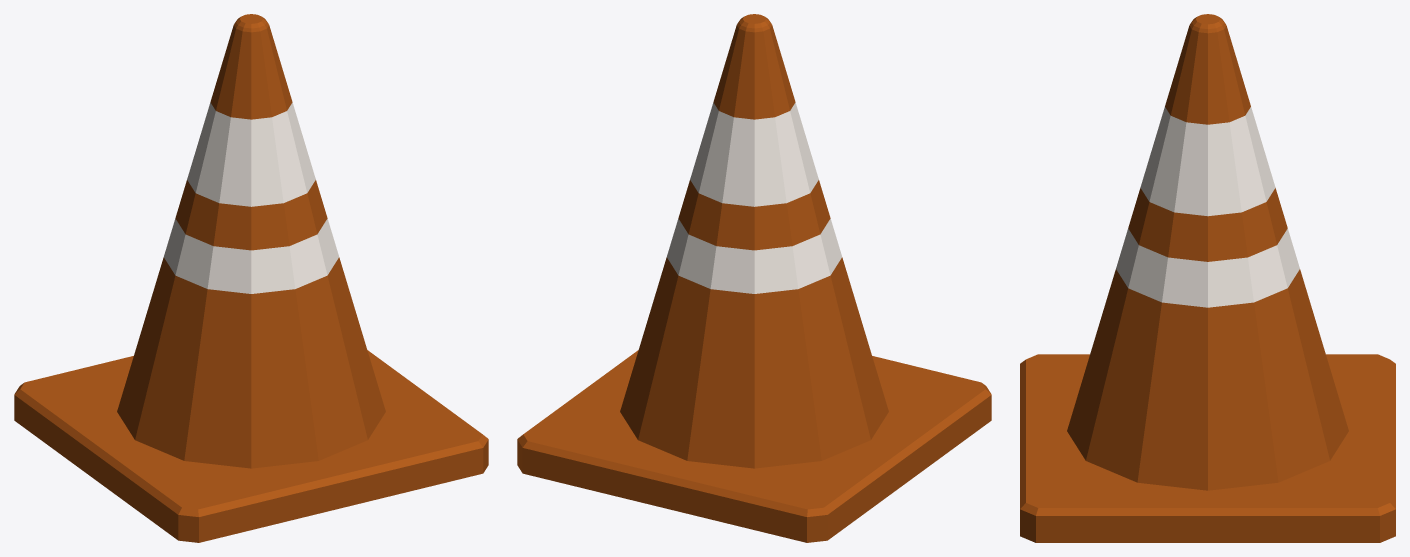
3 views of the same model, side by side, from view 1: azimuth 30°, elevation 25°; view 2: azimuth 150°, elevation 25°; view 3: azimuth 270°, elevation 25° (orthographic). The views are drawn at different scales.
Parts seen in each view (by area): view 1: LP_Cone_01; view 2: LP_Cone_01; view 3: LP_Cone_01.
Boxes of the visible parts, <box> form: LP_Cone_01: <box>14,14,488,542</box>; LP_Cone_01: <box>517,14,991,542</box>; LP_Cone_01: <box>1020,14,1395,542</box>.
Size of the model in its own units: 0.3708 by 0.4836 by 0.3708.
